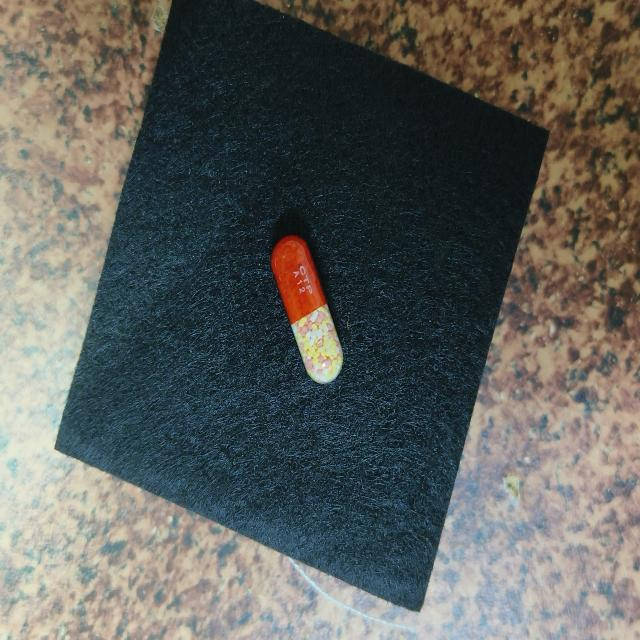Intact Capsule: (270, 235, 343, 383)
